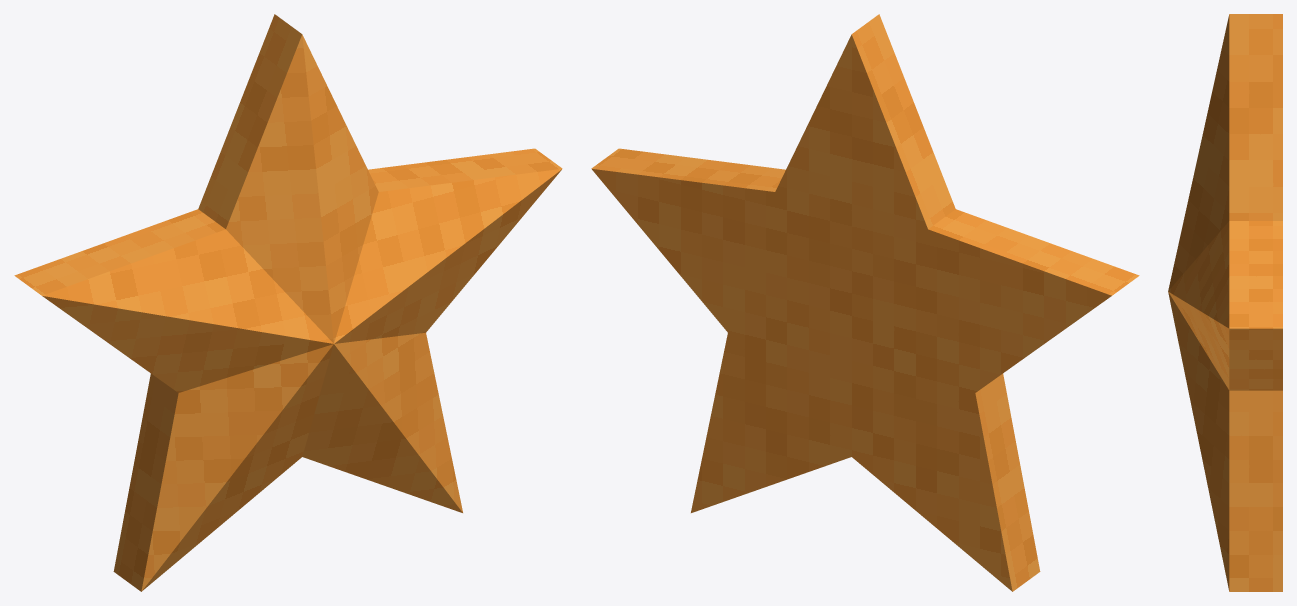
The model's file is wall_star.glb.
3 renders of one model, left to right at view 1: azimuth 30°, elevation 25°; view 2: azimuth 150°, elevation 25°; view 3: azimuth 270°, elevation 25°, orthographic. The views are drawn at different scales.
Parts seen in each view (by area): view 1: Star; view 2: Star; view 3: Star.
Part boxes in pixels (left/top/right/bottom): Star: left=14, top=14, right=562, bottom=591; Star: left=591, top=14, right=1139, bottom=591; Star: left=1168, top=14, right=1282, bottom=591.
Bounding box in the file's own units: 1.52 × 1.45 × 0.3.
1 material, 1 textured.
